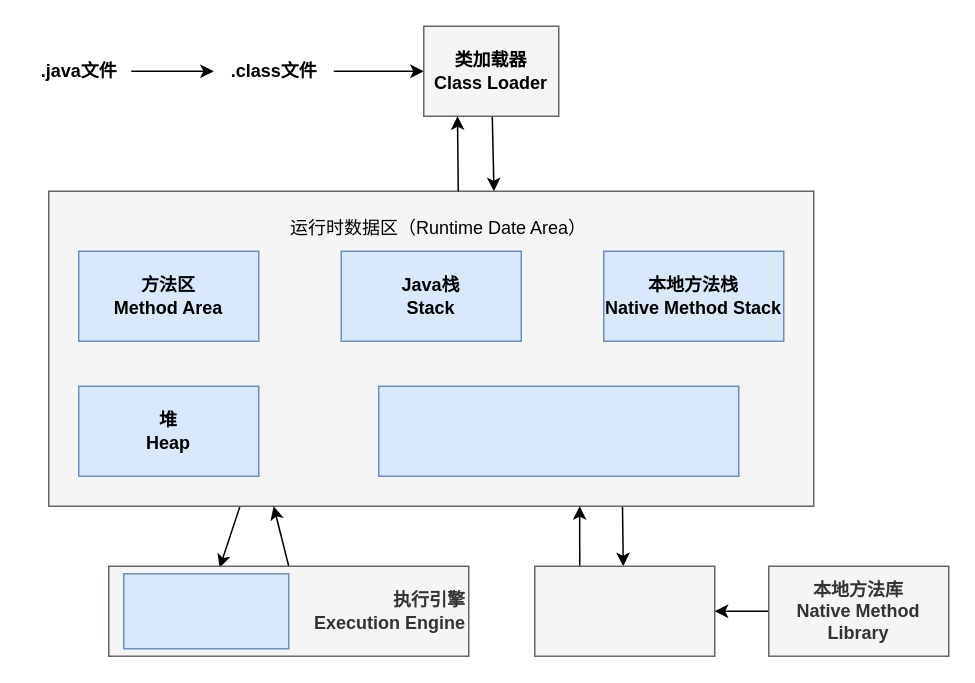
This 975x683 diagram has some shape labels left out. Each missing label, with the centre of its shape:
"即时编译器 垃圾回收器 解析器" belongs at [205,610].
"本地接口 Native Method Interface" belongs at [624,610].
"程序计数器（PC寄存器，PC Registers）" belongs at [558,430].
